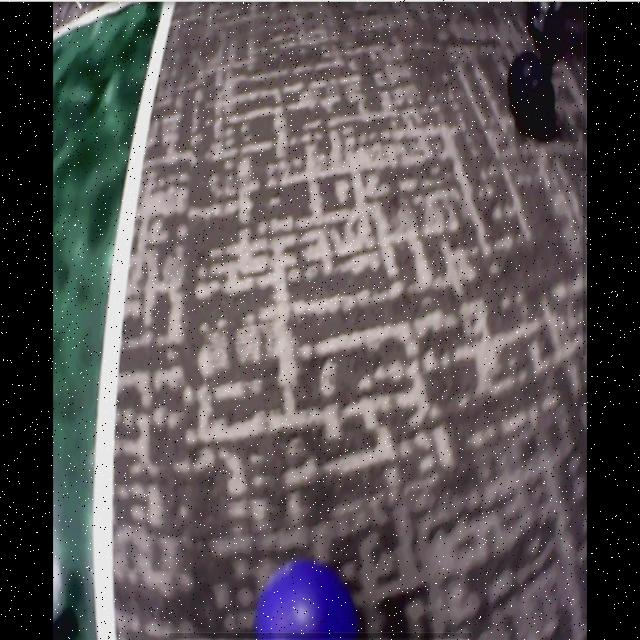ball: (253, 560, 356, 640)
